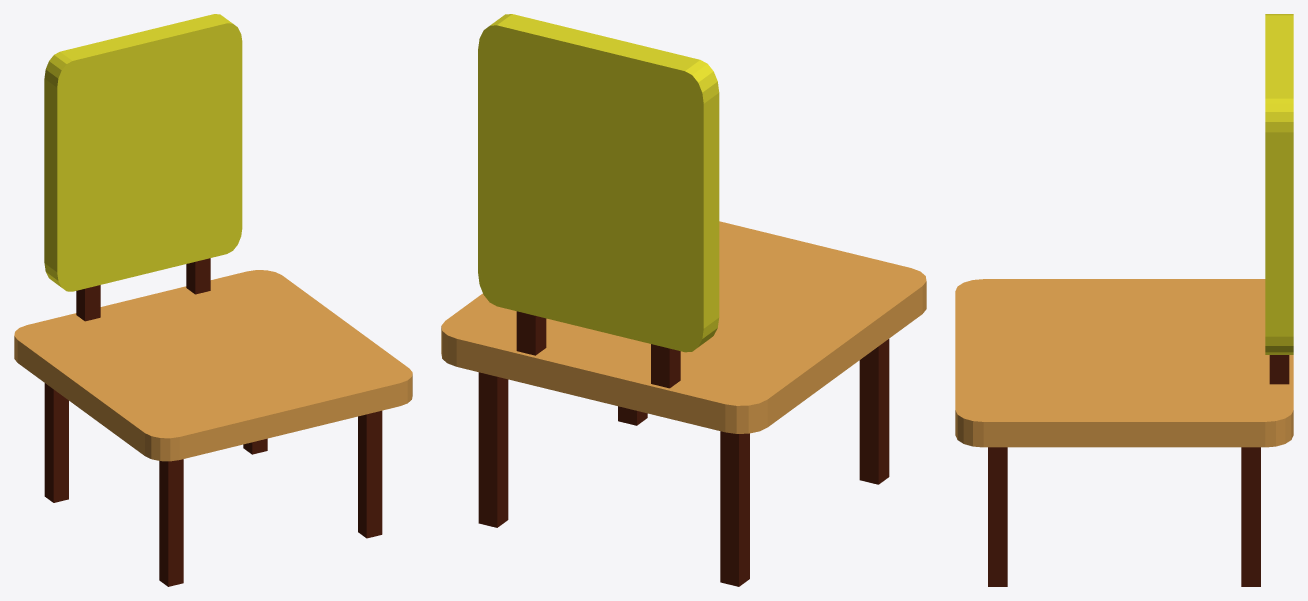
Rendered from Chair.fbx.
The picture shows the model from 3 angles, left to right: view 1: azimuth 30°, elevation 25°; view 2: azimuth 150°, elevation 25°; view 3: azimuth 270°, elevation 25°; orthographic projection. The views are drawn at different scales.
Visible parts, largest first — view 1: Chair; view 2: Chair; view 3: Chair.
Boxes of the visible parts, left/top/right/bottom form: Chair: left=14, top=14, right=412, bottom=586; Chair: left=441, top=14, right=926, bottom=586; Chair: left=955, top=14, right=1293, bottom=586.
Bounding box in the file's own units: 1.2 × 1.2 × 1.85.
